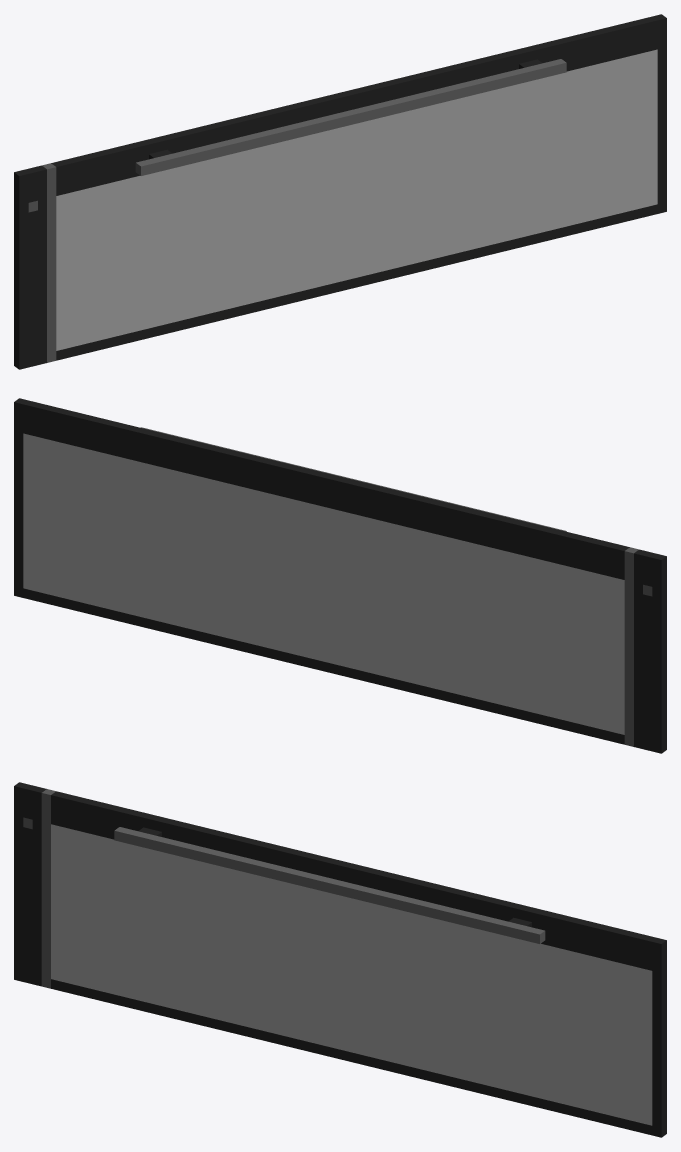
Rendered from oven-0.obj.
The picture shows the model from 3 angles, top to bottom: view 1: azimuth 30°, elevation 25°; view 2: azimuth 150°, elevation 25°; view 3: azimuth 330°, elevation 25°; orthographic projection.
Bounding box in the file's own units: 7 × 2 × 0.3.
1 material, 1 textured.
